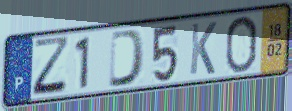1: (73, 34, 94, 91)
5: (150, 22, 180, 83)
D: (107, 27, 147, 90)
K: (188, 20, 219, 77)
O: (223, 14, 260, 75)
Z: (31, 34, 72, 98)
